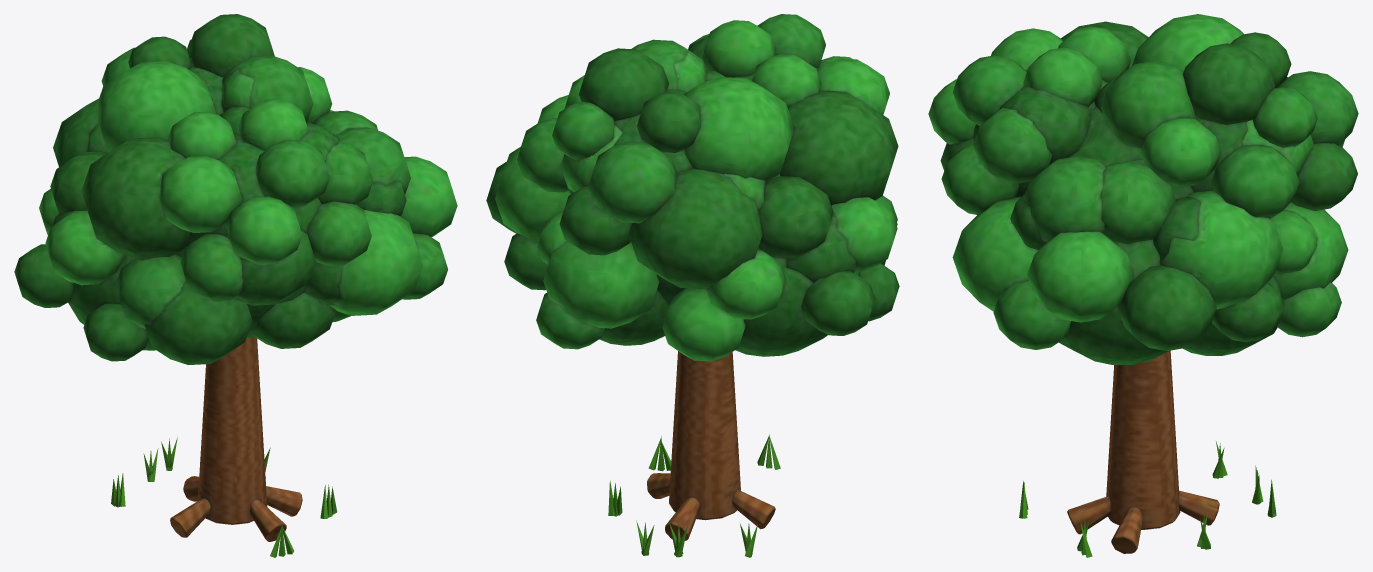
The model's file is starfruit_tree.glb.
The picture shows the model from 3 angles, left to right: view 1: azimuth 30°, elevation 25°; view 2: azimuth 150°, elevation 25°; view 3: azimuth 270°, elevation 25°; orthographic projection. The views are drawn at different scales.
Parts seen in each view (by area): view 1: crown, starfruit_tree; view 2: crown, starfruit_tree; view 3: crown, starfruit_tree.
Boxes of the visible parts, <box> form: crown: <box>14,14,457,364</box>; starfruit_tree: <box>111,337,337,557</box>; crown: <box>486,14,899,361</box>; starfruit_tree: <box>608,351,780,557</box>; crown: <box>928,14,1358,364</box>; starfruit_tree: <box>1019,350,1276,557</box>.
Size of the model in its own units: 1.13 by 1.31 by 1.03.
Materials: 1 (1 with a texture image).
